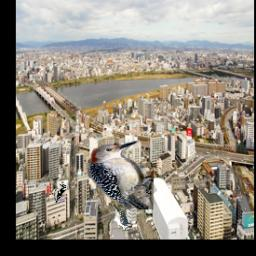Woodpecker: (88, 142, 154, 210), (112, 204, 133, 232), (49, 183, 67, 203)
